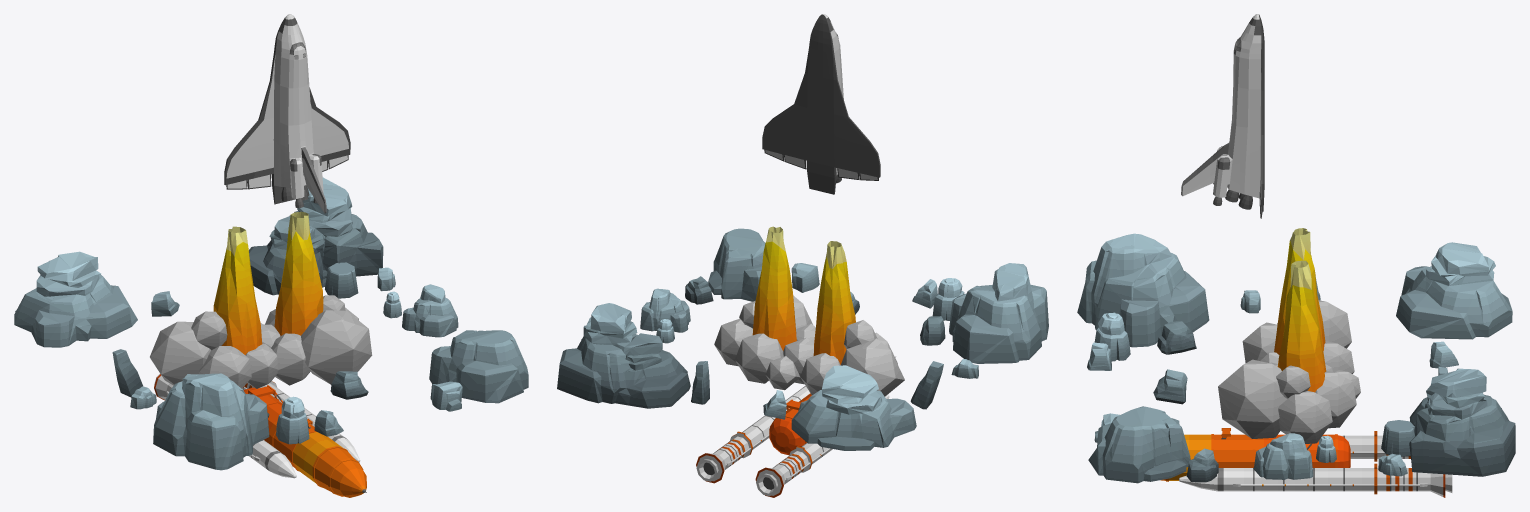
File: space_shuttle.glb
3 views of the same model, side by side, from view 1: azimuth 30°, elevation 25°; view 2: azimuth 150°, elevation 25°; view 3: azimuth 270°, elevation 25° (orthographic). The views are drawn at different scales.
Parts seen in each view (by area): view 1: space shuttle (1)_12, stone large gray blue 6 (2)_0, stone large gray blue 4 (1)_35, stone large gray blue 5 (1)_7, stone large gray blue 3 (1)_30, external tank_18, fire 3 (2)_19, fire 3 (3)_25, smoke grey 2_32, smoke grey 2 (7)_21, stone large gray blue 6 (3)_20, smoke grey 2 (10)_14 (+12 smaller); view 2: space shuttle (1)_12, stone large gray blue 5 (1)_7, stone large gray blue 6 (2)_0, stone large gray blue 4 (1)_35, fire 3 (2)_19, fire 3 (3)_25, stone large gray blue 3 (1)_30, solid rocket booster (1)_23, smoke grey 2 (7)_21, solid rocket booster_10, smoke grey 2 (3)_17, stone large gray blue 6 (3)_20 (+12 smaller); view 3: stone large gray blue 6 (2)_0, stone large gray blue 5 (1)_7, stone large gray blue 4 (1)_35, space shuttle (1)_12, stone large gray blue 3 (1)_30, solid rocket booster (1)_23, smoke grey 2_32, fire 3 (2)_19, external tank_18, stone large gray blue 6 (3)_20, smoke grey 2 (1)_3, fire 3 (3)_25 (+14 smaller).
Part boxes in pixels (box(x1,y1,x2,y2)): space shuttle (1)_12: box(224, 14, 350, 213); stone large gray blue 6 (2)_0: box(153, 373, 269, 470); stone large gray blue 4 (1)_35: box(14, 251, 137, 347); stone large gray blue 5 (1)_7: box(249, 177, 383, 295); stone large gray blue 3 (1)_30: box(429, 330, 528, 403); external tank_18: box(243, 385, 366, 497); fire 3 (2)_19: box(274, 211, 323, 336); fire 3 (3)_25: box(213, 226, 262, 354); smoke grey 2_32: box(301, 310, 372, 384); smoke grey 2 (7)_21: box(150, 321, 210, 385); stone large gray blue 6 (3)_20: box(402, 284, 458, 337); smoke grey 2 (10)_14: box(271, 333, 310, 385); space shuttle (1)_12: box(762, 14, 880, 194); stone large gray blue 5 (1)_7: box(557, 303, 690, 408); stone large gray blue 6 (2)_0: box(949, 263, 1048, 363); stone large gray blue 4 (1)_35: box(791, 365, 916, 450); fire 3 (2)_19: box(752, 226, 796, 350); fire 3 (3)_25: box(813, 241, 855, 364); stone large gray blue 3 (1)_30: box(708, 228, 765, 301); solid rocket booster (1)_23: box(696, 386, 810, 483); smoke grey 2 (7)_21: box(840, 338, 904, 396); solid rocket booster_10: box(755, 394, 889, 497); smoke grey 2 (3)_17: box(735, 333, 783, 383); stone large gray blue 6 (3)_20: box(640, 288, 690, 332); stone large gray blue 6 (2)_0: box(1077, 233, 1209, 347); stone large gray blue 5 (1)_7: box(1409, 368, 1515, 476); stone large gray blue 4 (1)_35: box(1396, 242, 1512, 339); space shuttle (1)_12: box(1181, 14, 1264, 218); stone large gray blue 3 (1)_30: box(1088, 406, 1190, 483); solid rocket booster (1)_23: box(1179, 463, 1452, 497); smoke grey 2_32: box(1218, 359, 1286, 438); fire 3 (2)_19: box(1277, 260, 1326, 392); external tank_18: box(1160, 428, 1350, 481); stone large gray blue 6 (3)_20: box(1253, 433, 1313, 479); smoke grey 2 (1)_3: box(1278, 391, 1332, 443); fire 3 (3)_25: box(1274, 228, 1325, 354).
Size of the model in its own units: 19.43 by 23.2 by 19.84.
Materials: 1 (1 with a texture image).
